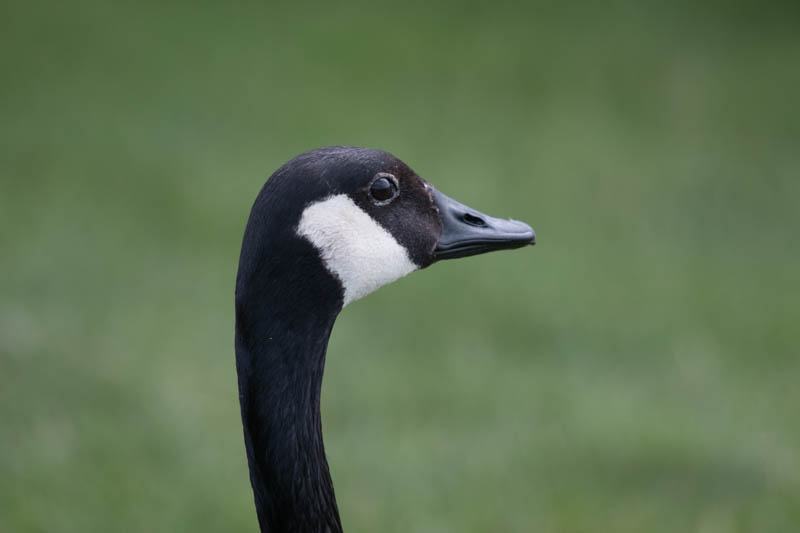goose-head: (235, 144, 536, 311)
